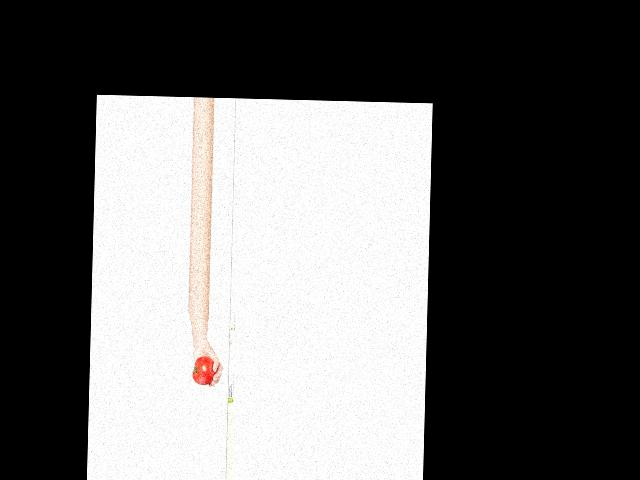tomato: (192, 355, 216, 385)
